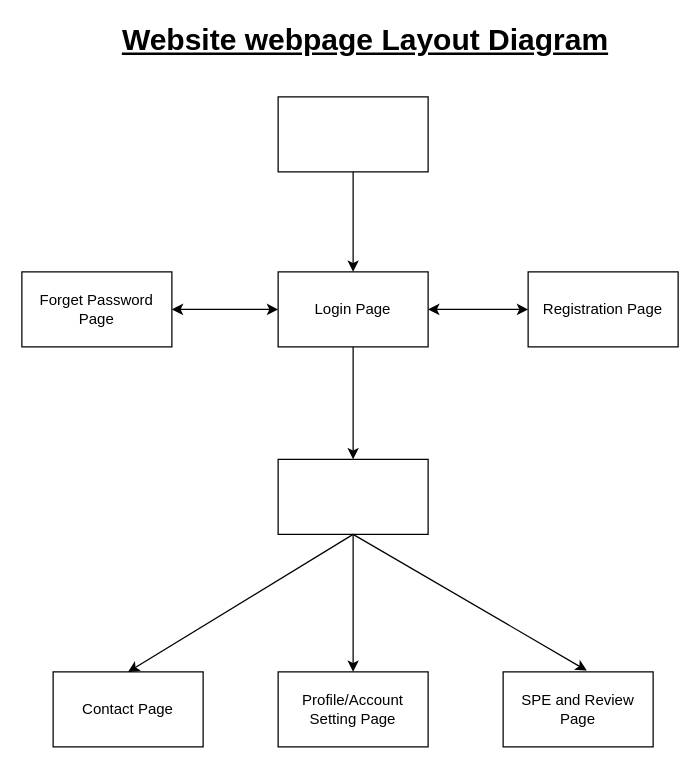
The diagram is 700 pixels wide and 769 high, and some of its shapes have lost their labels. Here are the shapes that lost their labels. From the top down, the centre of each, then its label:
At pixel 352 134: "Unique Link From Email Inbox".
At pixel 352 496: "Homepage (Dashboard)".
